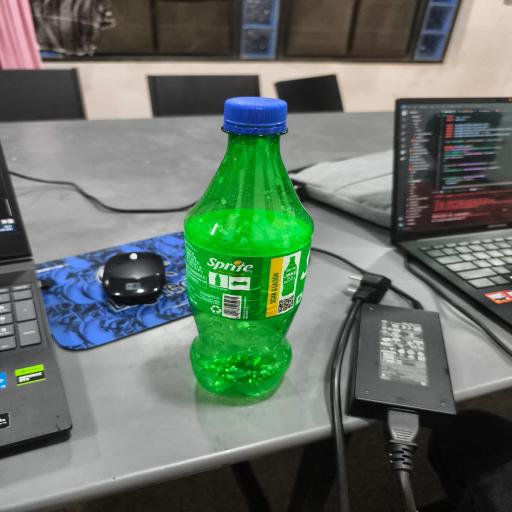Sprite: (184, 97, 313, 397)
